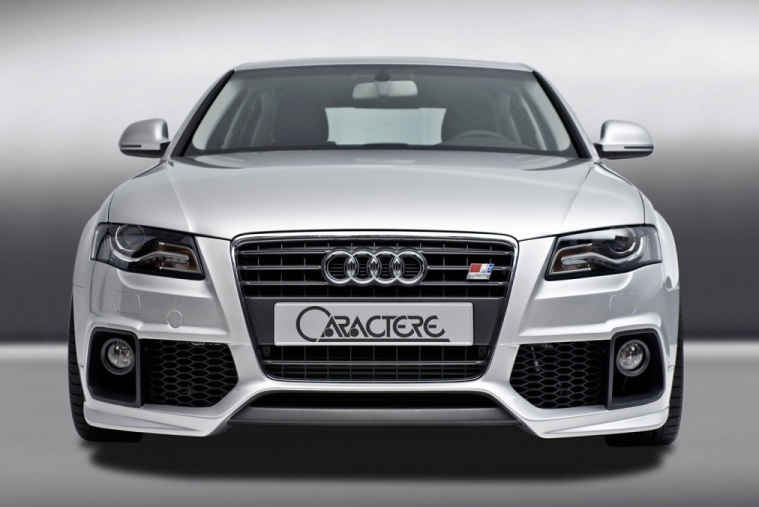audi: (315, 244, 437, 291)
